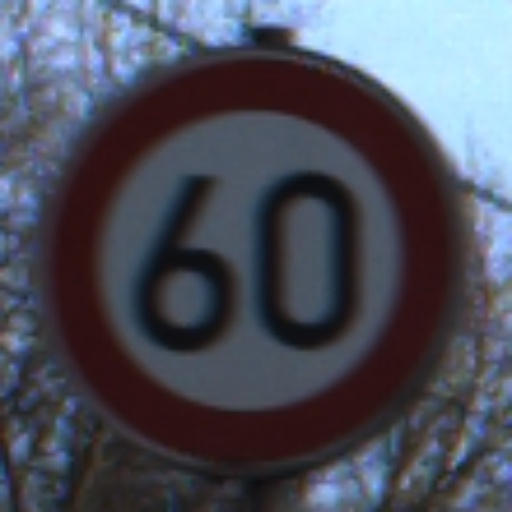Speed limit: (41, 50, 457, 463)
